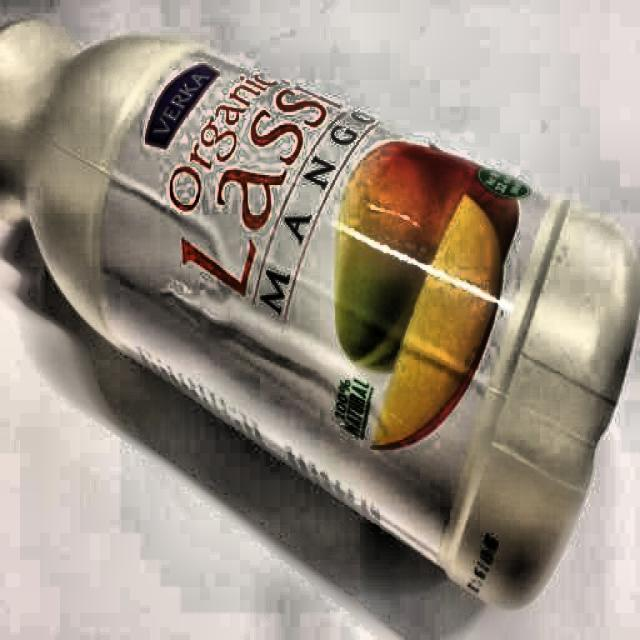plastic: (0, 18, 634, 592)
